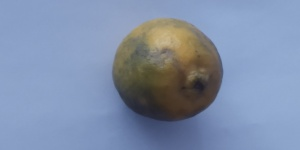BAD: (112, 15, 224, 122)
